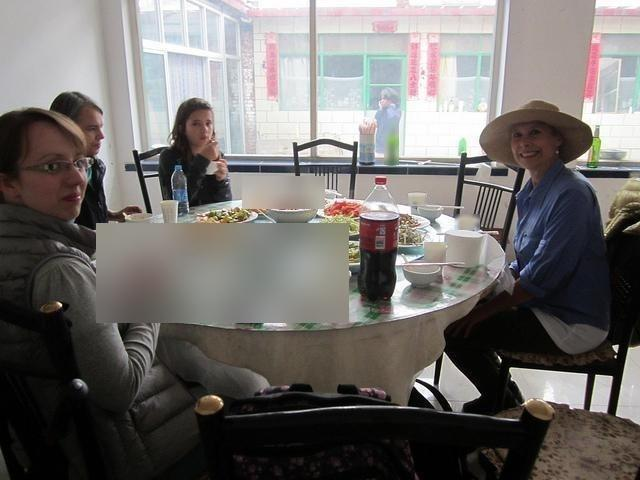bottle-plastic: (357, 176, 399, 303), (171, 163, 188, 213)
